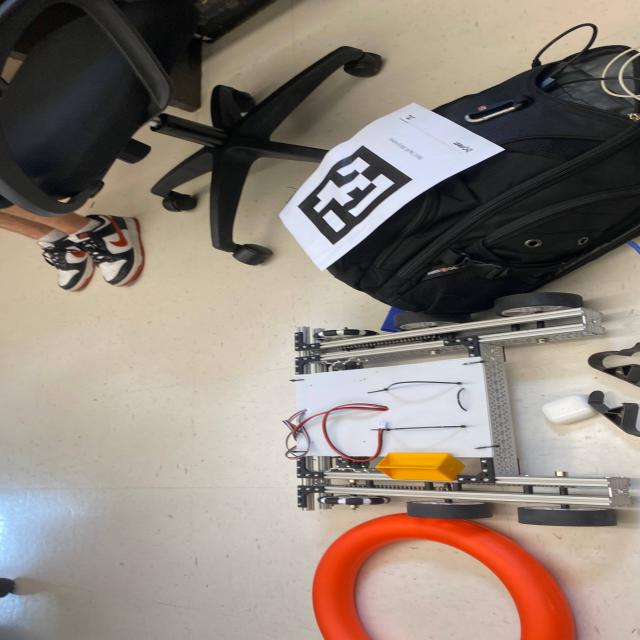blue-specimen: (380, 307, 405, 332)
yellow-specimen: (376, 453, 465, 482)
